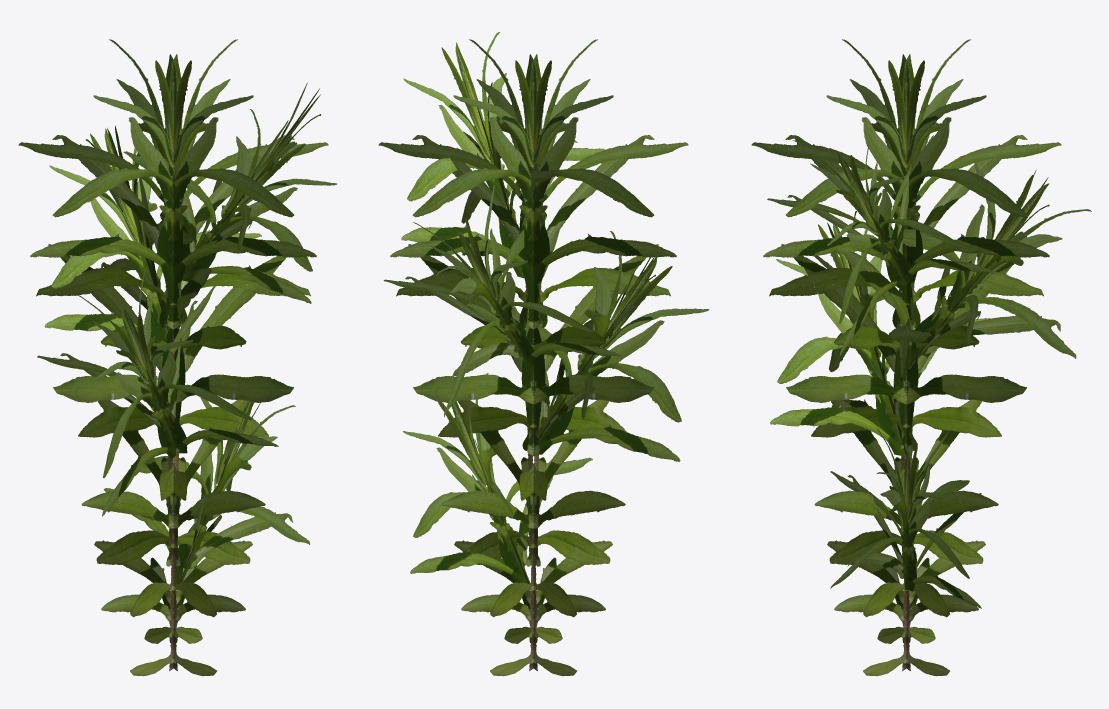
File: mato_a.glb
The picture shows the model from 3 angles, left to right: view 1: azimuth 30°, elevation 25°; view 2: azimuth 150°, elevation 25°; view 3: azimuth 270°, elevation 25°; orthographic projection.
Visible parts, largest first — view 1: mato_a; view 2: mato_a; view 3: mato_a.
Boxes of the visible parts, x1,y1,x2,y2 form: mato_a: (18, 39, 337, 676); mato_a: (378, 32, 709, 676); mato_a: (751, 39, 1091, 676).
Size of the model in its own units: 0.66 by 1.28 by 0.6474.
Materials: 1 (1 with a texture image).
